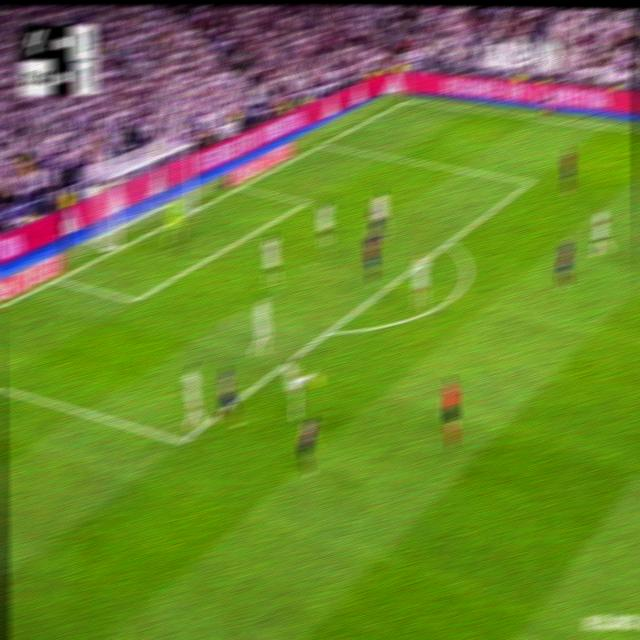bigarea_bottom_inner: (174, 428, 190, 453)
bigarea_top_inner: (524, 173, 536, 190)
bigarea_top_outter: (317, 136, 329, 149)
bottom_arc_area_intersection: (322, 318, 336, 340)
corner: (398, 93, 414, 104)
smallarea_bottom_inner: (128, 289, 142, 310)
smallarea_top_inner: (299, 192, 312, 209)
top_arc_area_intersection: (442, 232, 454, 249)
